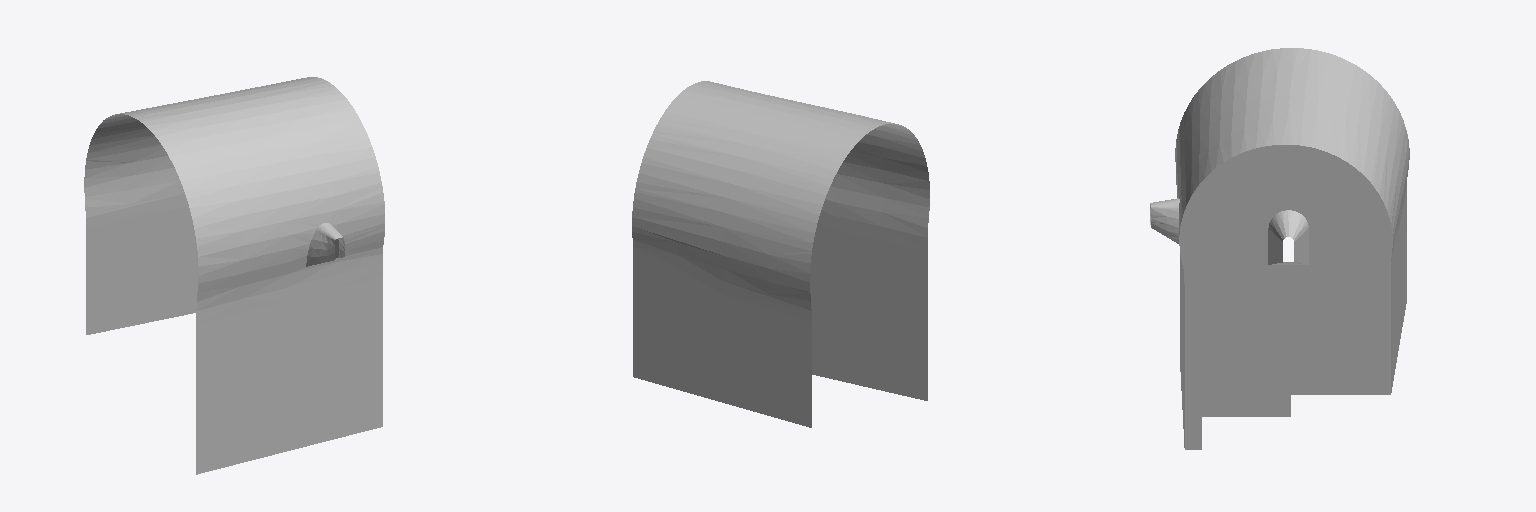
The model's file is 3_Pedret_XII.obj.
3 renders of one model, left to right at view 1: azimuth 30°, elevation 25°; view 2: azimuth 150°, elevation 25°; view 3: azimuth 270°, elevation 25°, orthographic.
Visible parts, largest first — view 1: PEDRET_XII-baked-absC; view 2: PEDRET_XII-baked-absC; view 3: PEDRET_XII-baked-absC.
Part boxes in pixels (left/top/right/bottom): PEDRET_XII-baked-absC: left=84, top=77, right=384, bottom=474; PEDRET_XII-baked-absC: left=632, top=81, right=929, bottom=427; PEDRET_XII-baked-absC: left=1150, top=48, right=1409, bottom=449.
Size of the model in its own units: 4.45 by 6.02 by 4.56.